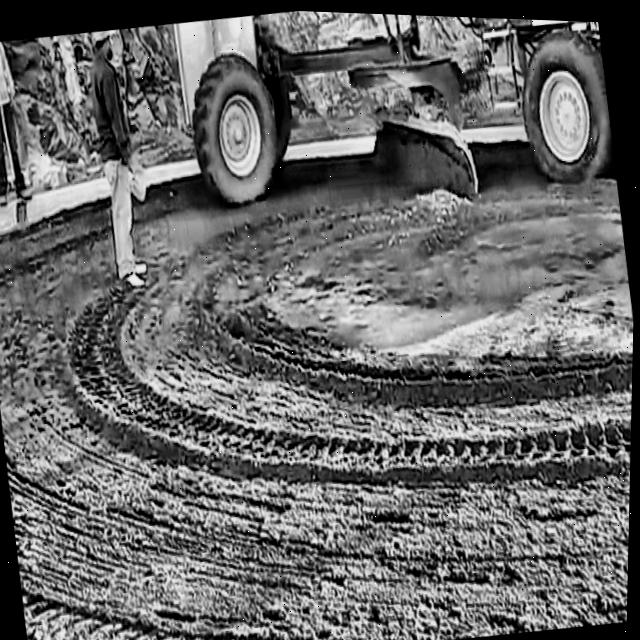buldozerpayloadergrader: (172, 5, 621, 245)
